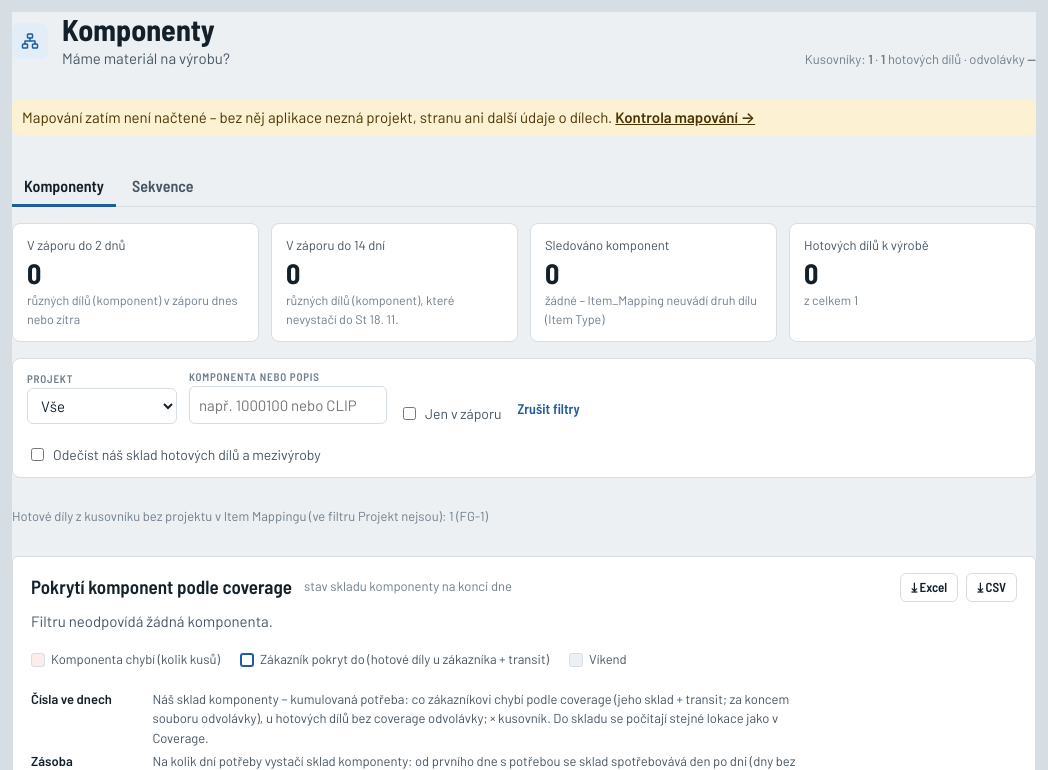
Test: Komponenty – karta Sekvence › díl, který v klíči chybí, je šedý a do potřeby se nepočítá
Click the tab "Sekvence": x=163, y=186 [120,166,206,207]
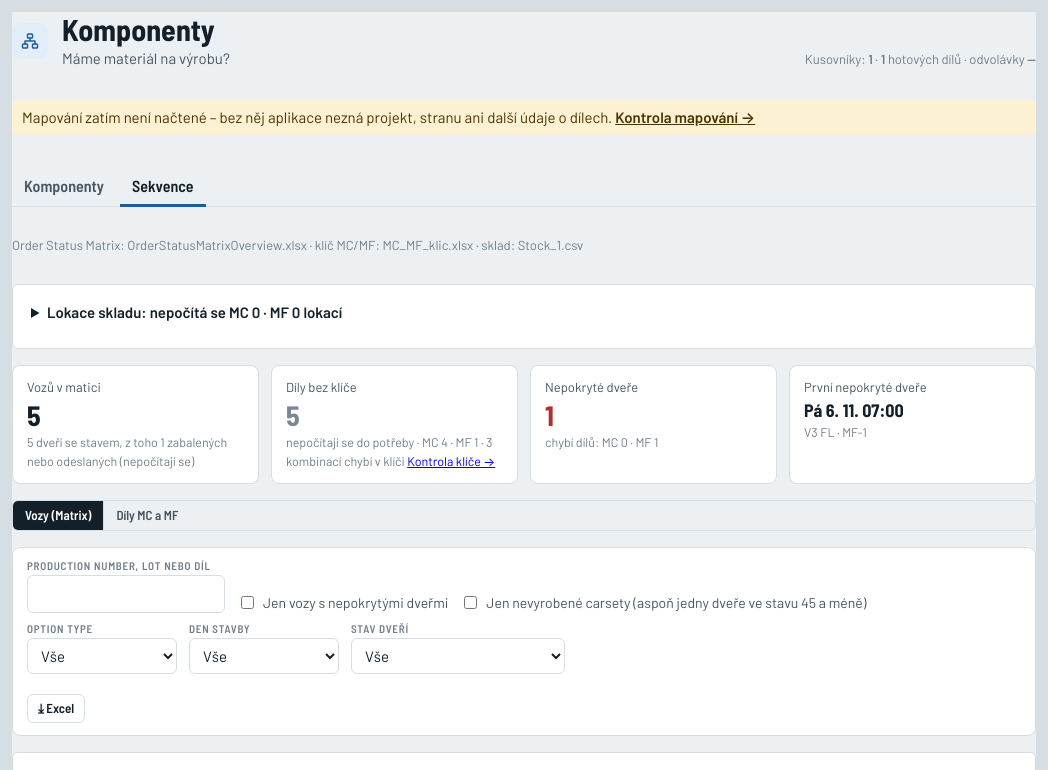
Check: the text "chybí dílů: MC 0 · MF 1" is shown, box [545,434,658,450]
